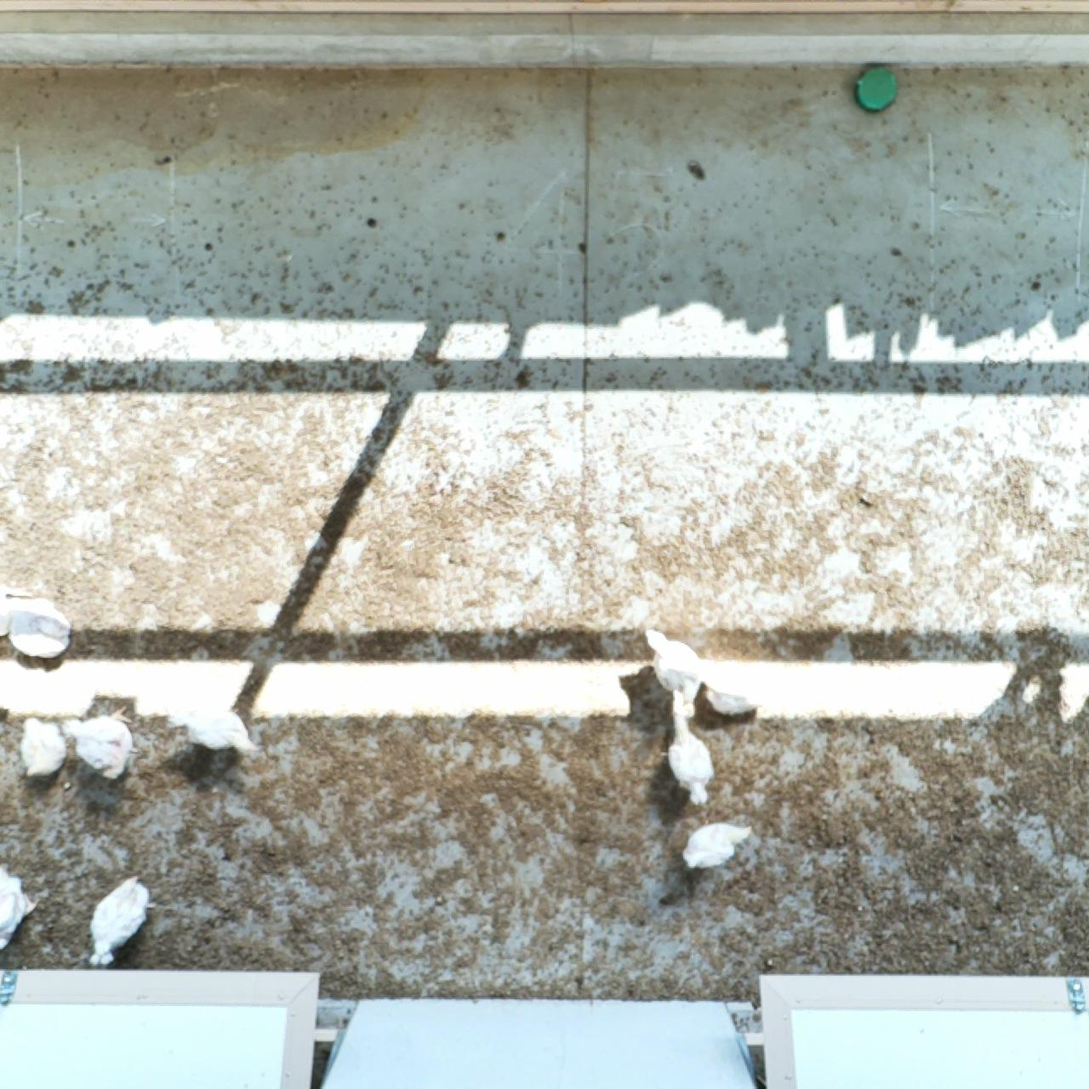chicken: (84, 872, 159, 970), (162, 692, 263, 759), (60, 703, 141, 785), (657, 710, 717, 810), (636, 623, 707, 705), (0, 593, 74, 662), (680, 813, 755, 871), (692, 660, 765, 719), (0, 861, 43, 957), (16, 716, 69, 784)
